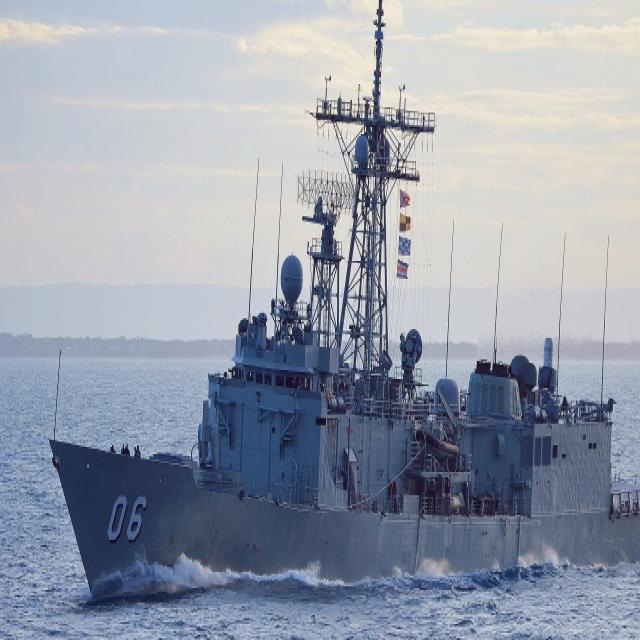Fragata: (53, 1, 640, 607)
